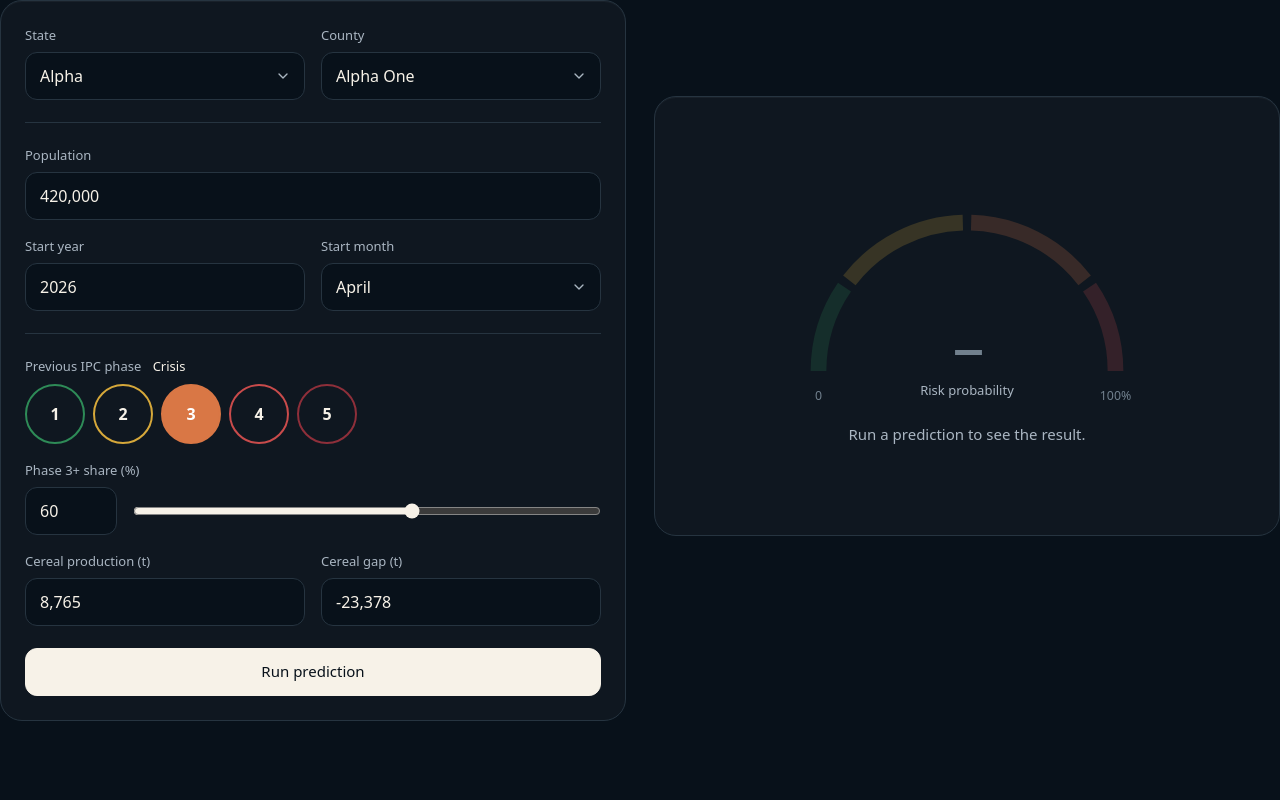
PredictWorkspace › survives a network failure
Click the button "Run prediction" at (313, 672), box [25,648,601,696]
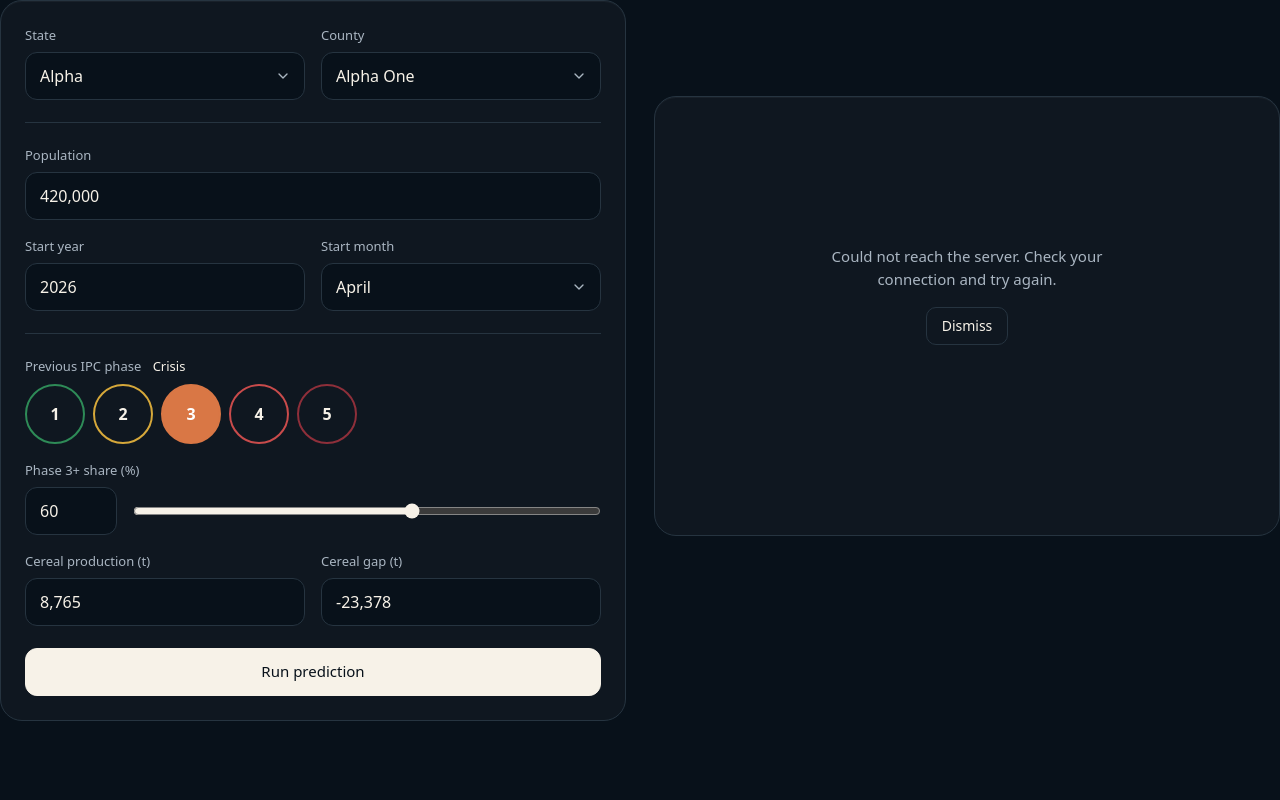
Expected: the text "Could not reach the server" is shown, [832,246,1102,289]
